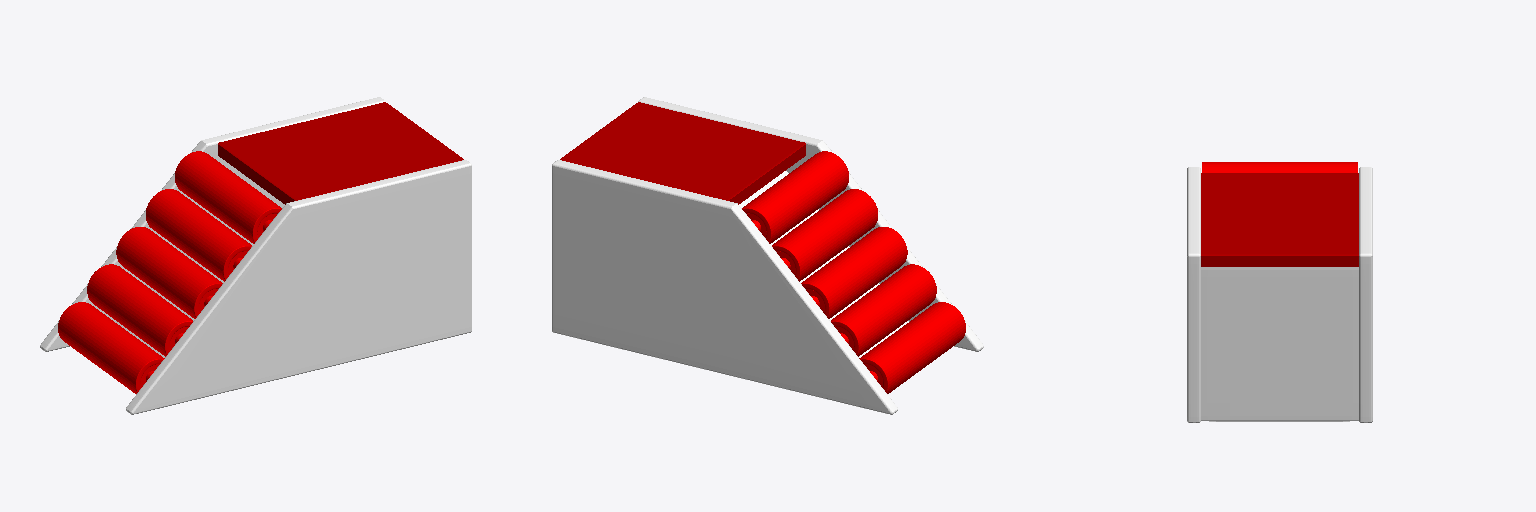
Rendered from RollingHill.obj.
The picture shows the model from 3 angles: view 1: azimuth 30°, elevation 25°; view 2: azimuth 150°, elevation 25°; view 3: azimuth 270°, elevation 25°; orthographic projection.
Visible parts, largest first — view 1: rollinghill, rollhill_4, rollhill_3, rollhill_2, rollhill_1, rollhill; view 2: rollinghill, rollhill_4, rollhill_3, rollhill_2, rollhill_1, rollhill; view 3: rollinghill, rollhill_4.
Part boxes in pixels (bbox=[...]): rollinghill: bbox=[40, 97, 471, 414]; rollhill_4: bbox=[175, 151, 281, 243]; rollhill_3: bbox=[146, 189, 251, 281]; rollhill_2: bbox=[116, 227, 222, 318]; rollhill_1: bbox=[87, 264, 192, 356]; rollhill: bbox=[58, 302, 164, 393]; rollinghill: bbox=[552, 97, 983, 414]; rollhill_4: bbox=[742, 151, 848, 243]; rollhill_3: bbox=[772, 189, 877, 281]; rollhill_2: bbox=[801, 227, 907, 318]; rollhill_1: bbox=[831, 264, 936, 356]; rollhill: bbox=[859, 302, 965, 393]; rollinghill: bbox=[1187, 167, 1372, 422]; rollhill_4: bbox=[1202, 162, 1357, 172].
Size of the model in its own units: 1.74 by 0.8267 by 0.8204.